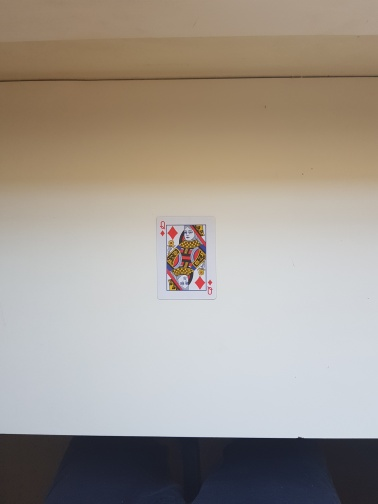queen: (155, 215, 215, 301)
